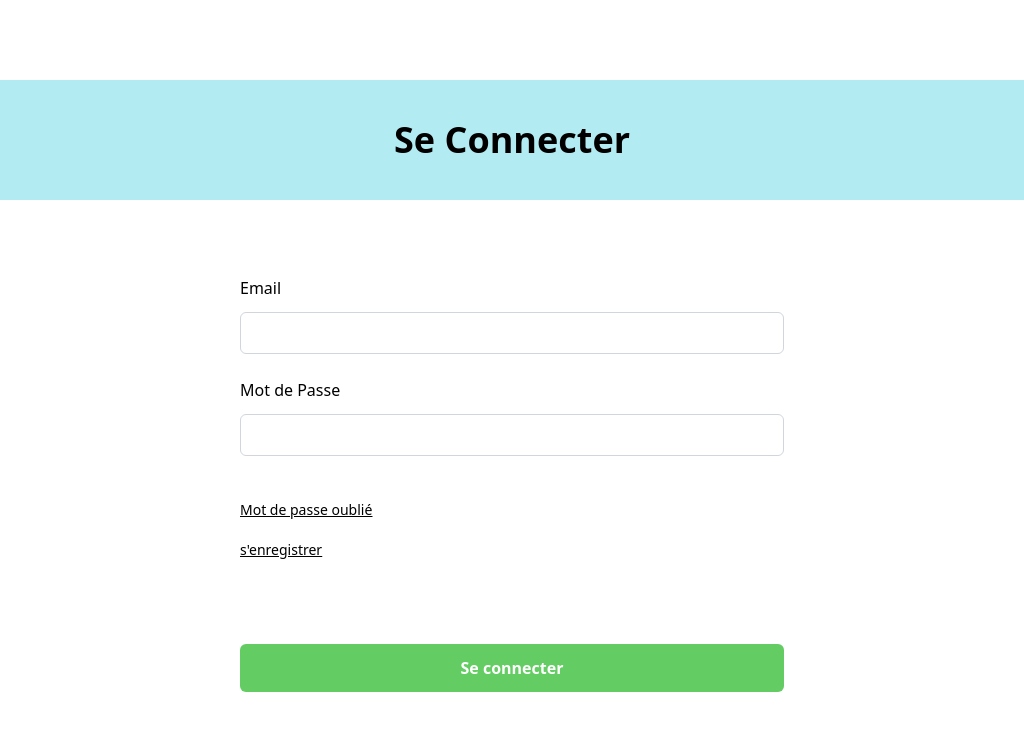
should redirect to home › should show back error
The width and height of the screenshot is (1024, 729).
Type "mail" into the field named "email" at [512, 333], box left=240, top=312, right=784, bottom=354
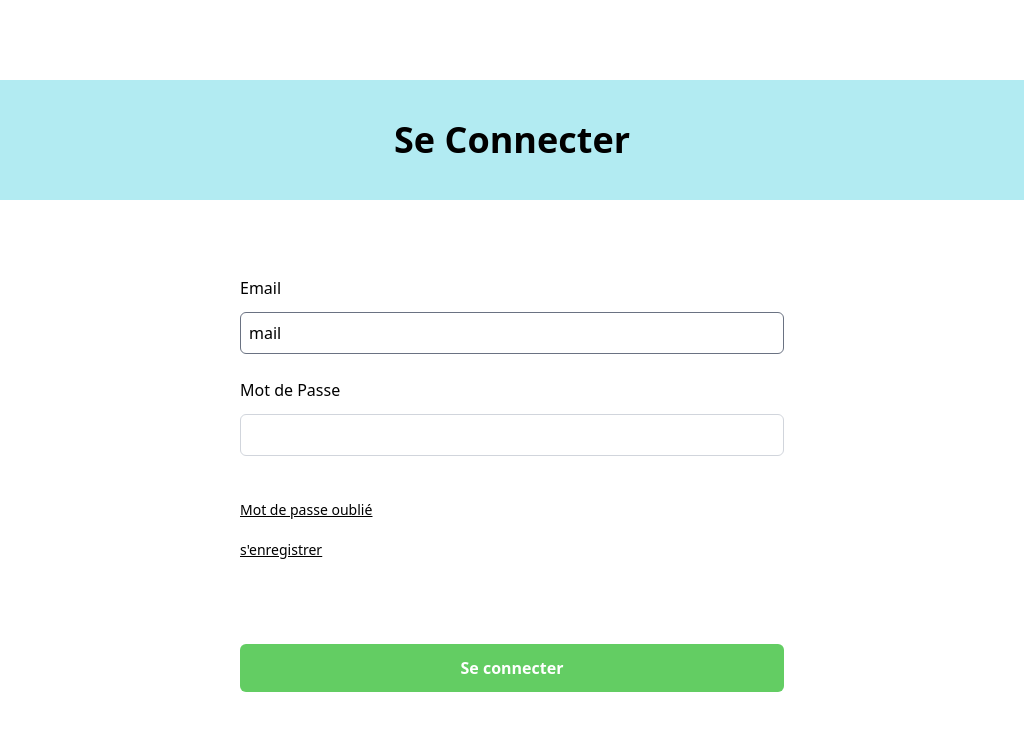
Type "pass" into the password field named "password" at [512, 435], box left=240, top=414, right=784, bottom=456
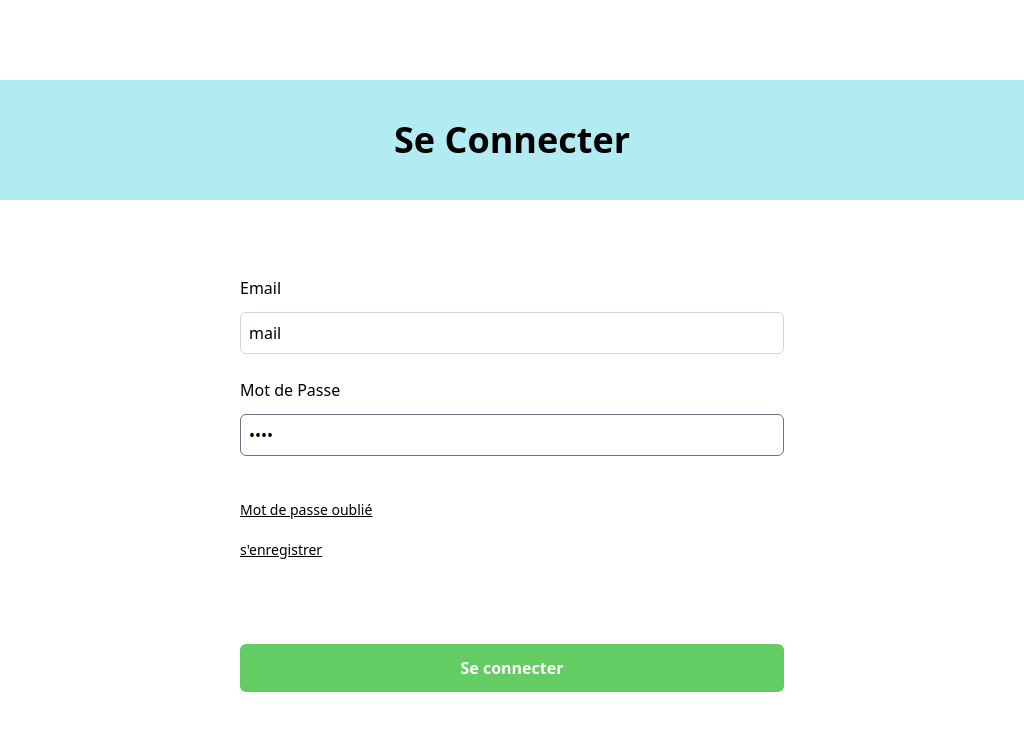
Click the submit button at [512, 668], box left=240, top=644, right=784, bottom=692
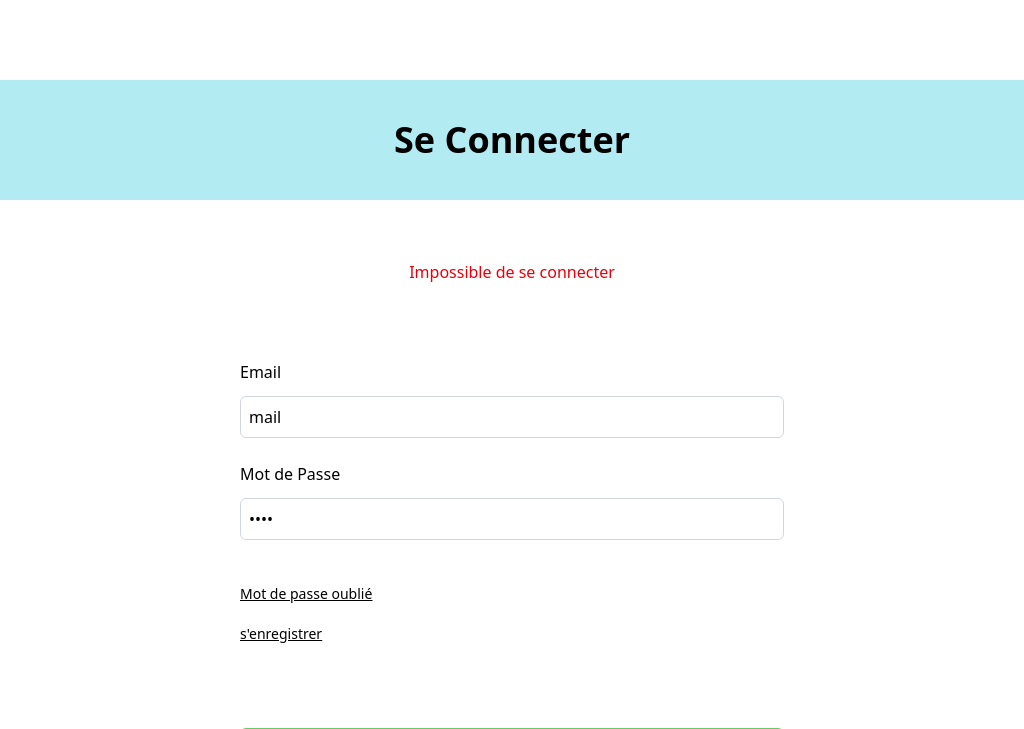
expect the number of elements with test id "back-error" is 1: met, box left=409, top=260, right=615, bottom=284
